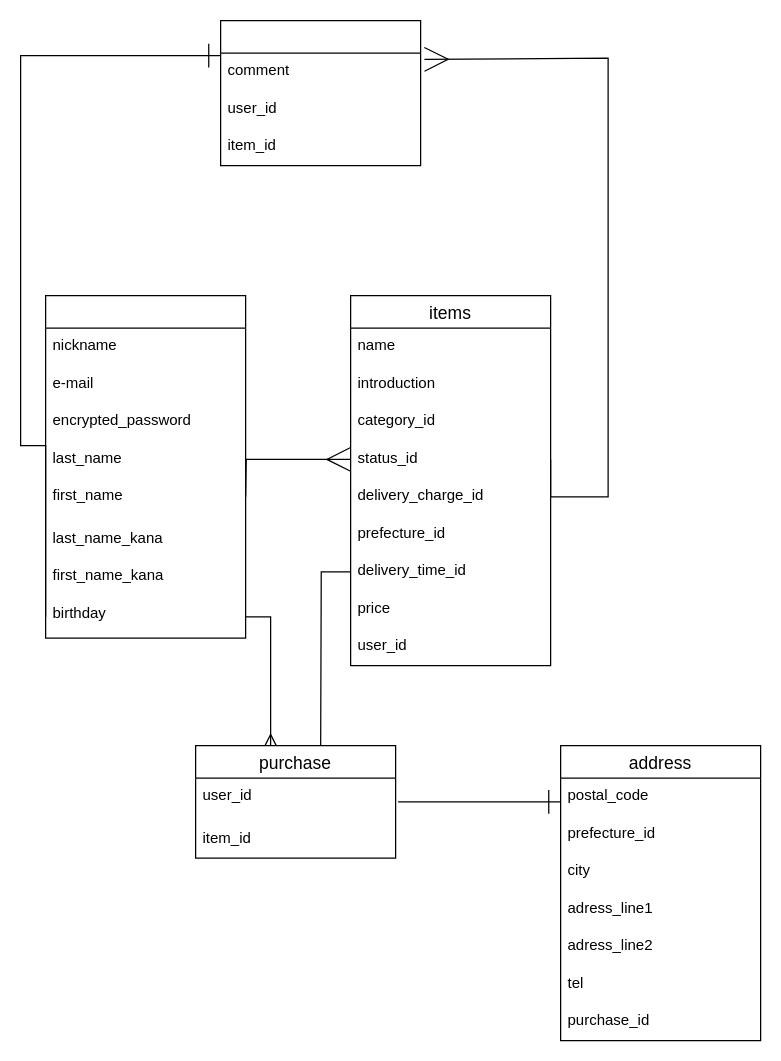
The diagram is 781 pixels wide and 1061 high, and some of its shapes have lost their labels. The shapes that lost their labels are listed below. From the top down, each one's box as (x1, y1, x2, y2) in pixels, then its label:
(219, 19, 421, 166): comments
(44, 294, 246, 638): users
